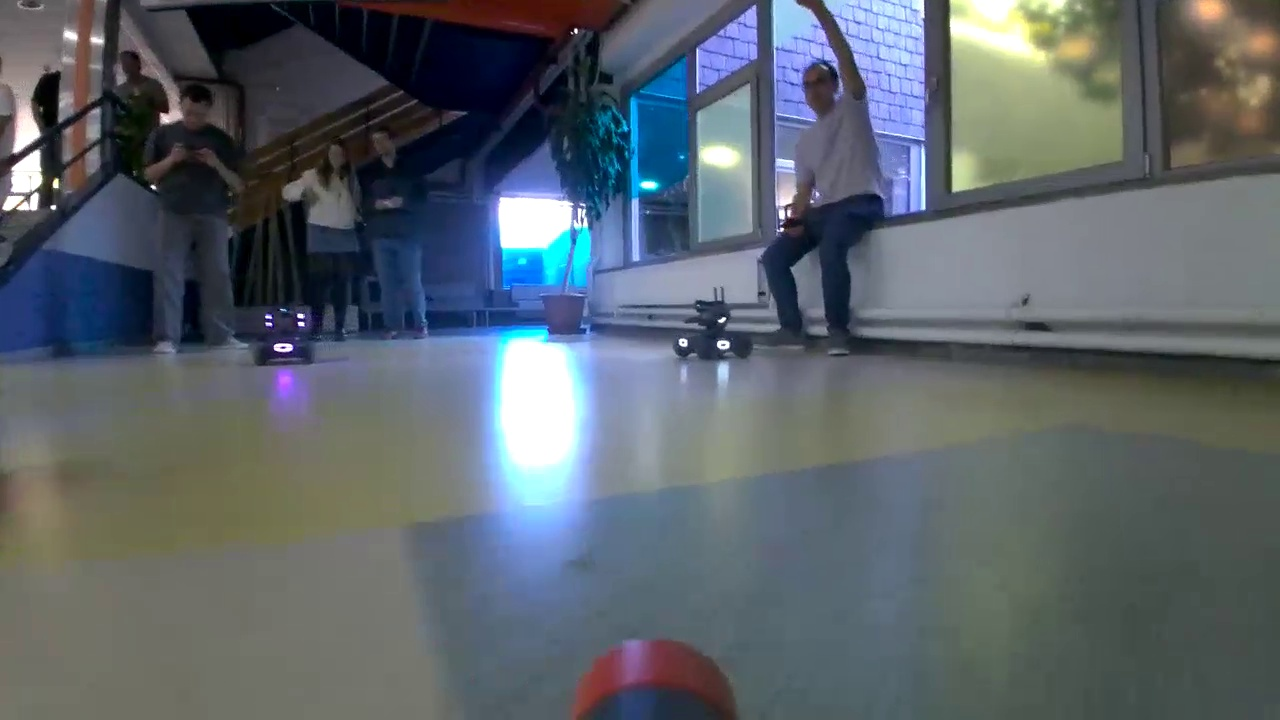robot: (250, 304, 326, 368), (672, 302, 752, 360)
